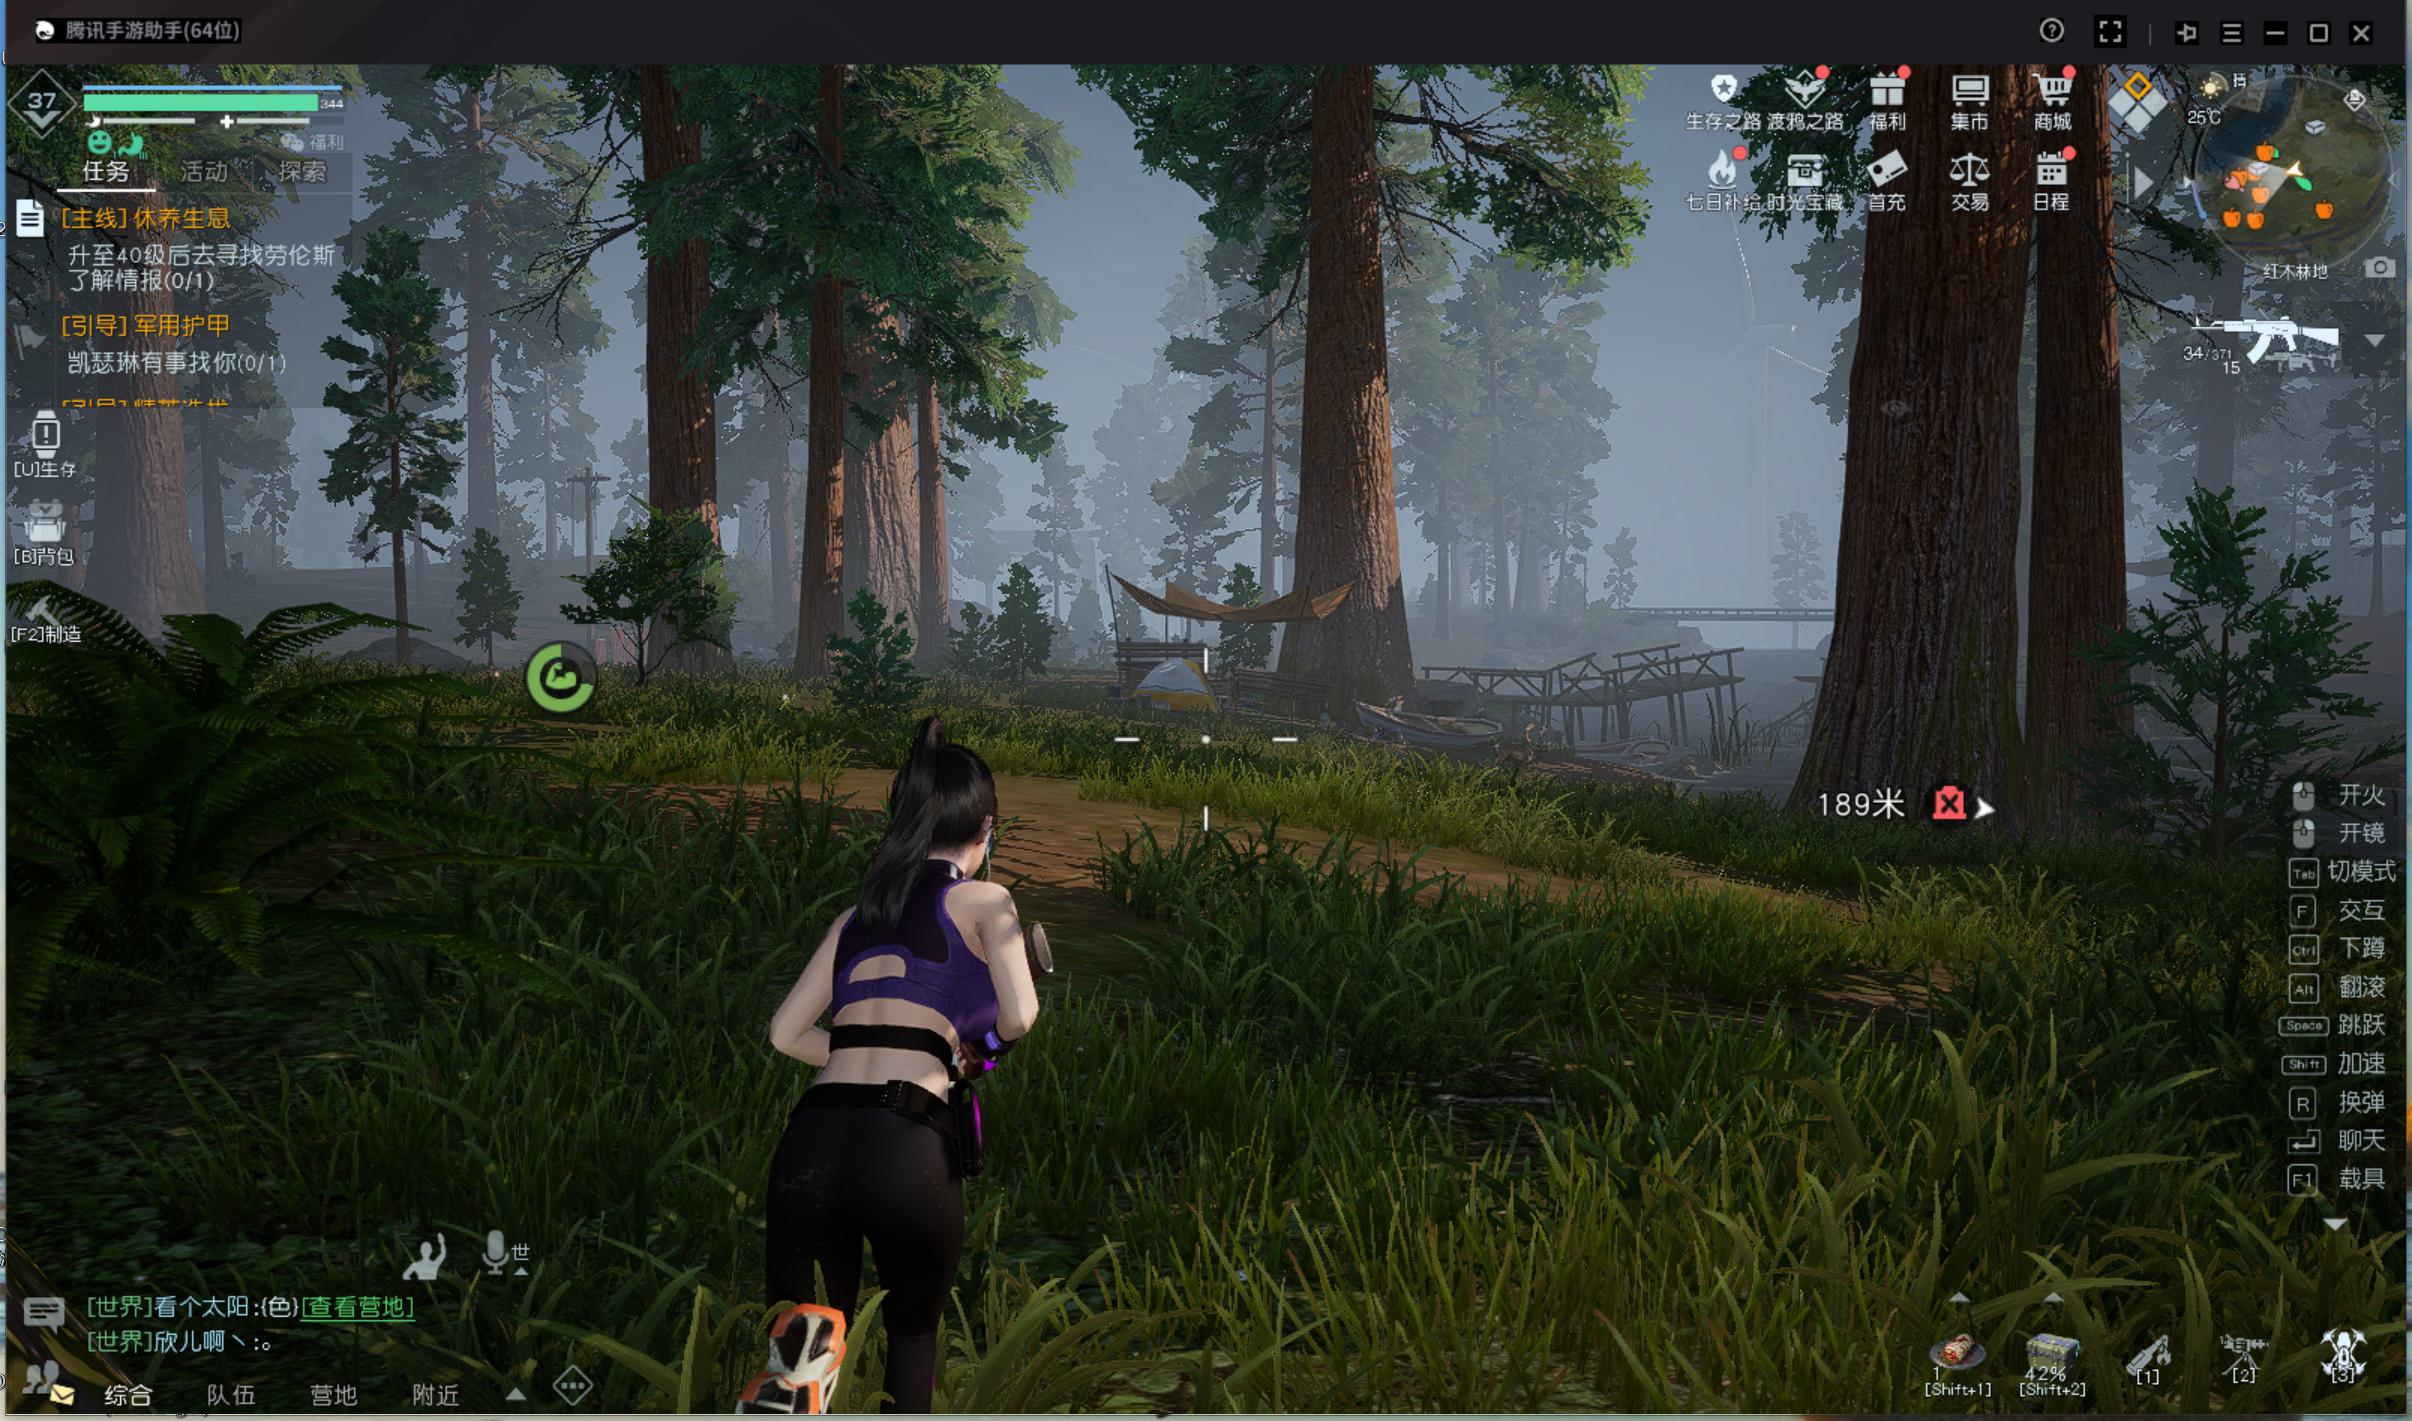tree: (1813, 218, 2021, 842), (1262, 267, 1411, 709), (2030, 269, 2138, 798), (634, 205, 726, 700), (793, 310, 852, 699), (910, 340, 951, 705)
